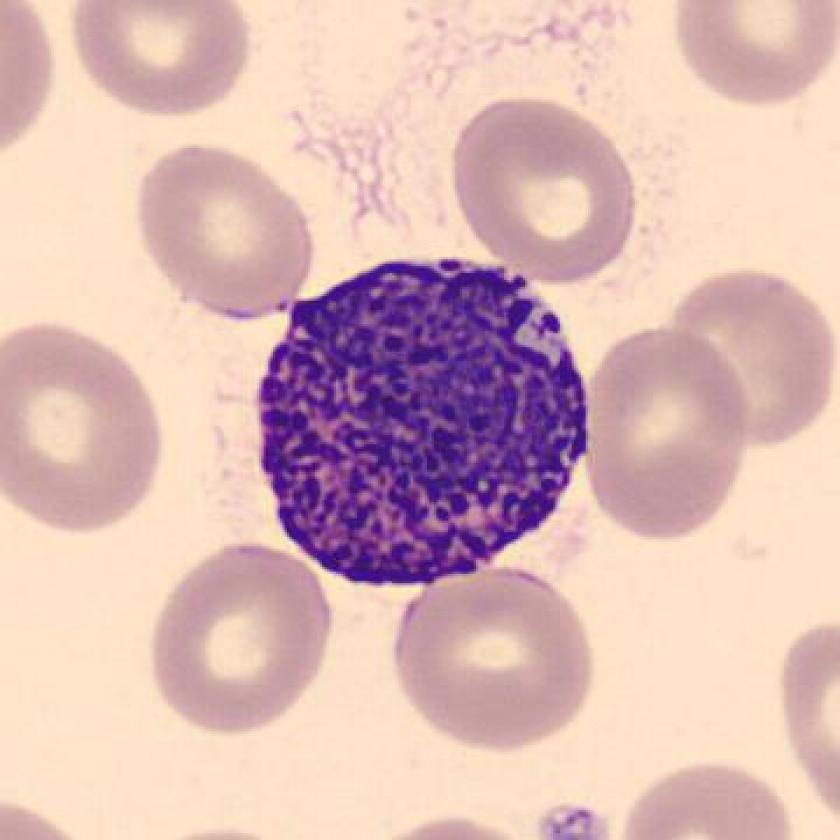basophil: (246, 253, 598, 598)
